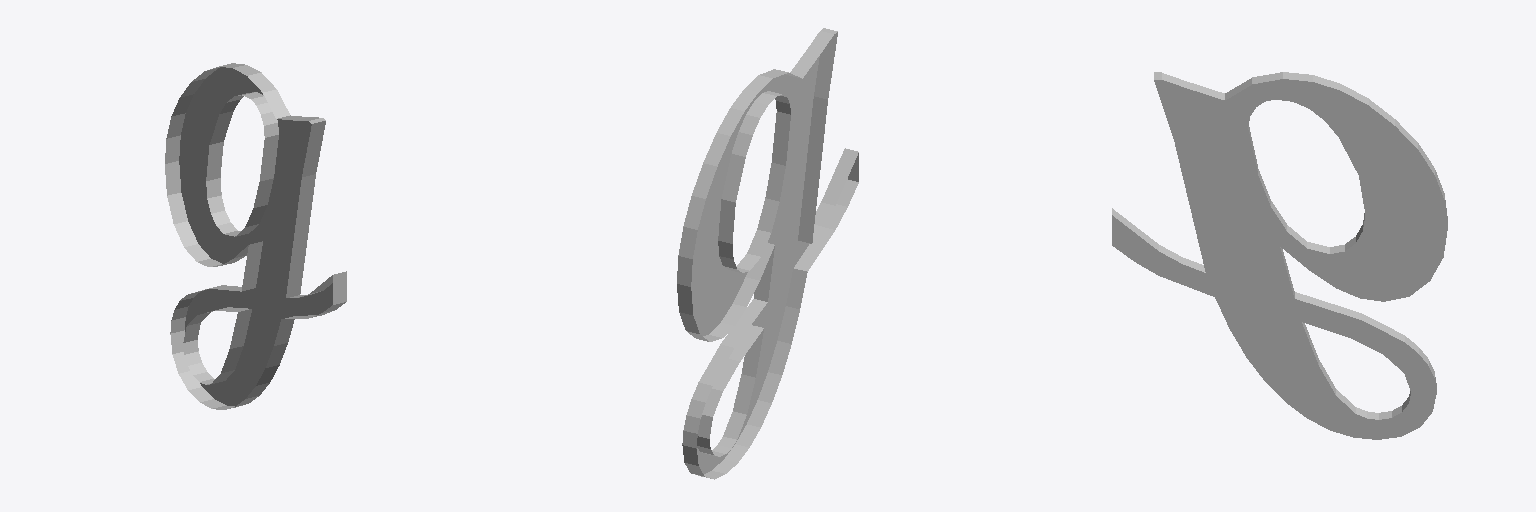
Rendered from original-45.obj.
3 renders of one model, left to right at view 1: azimuth 30°, elevation 25°; view 2: azimuth 150°, elevation 25°; view 3: azimuth 270°, elevation 25°, orthographic.
Visible parts, largest first — view 1: mesh12/mesh12-geometry/material_4/component_5#mesh12-geometry; view 2: mesh12/mesh12-geometry/material_4/component_5#mesh12-geometry; view 3: mesh12/mesh12-geometry/material_4/component_5#mesh12-geometry.
Part boxes in pixels (x1,y1,x2,y2): mesh12/mesh12-geometry/material_4/component_5#mesh12-geometry: (165, 63, 346, 409); mesh12/mesh12-geometry/material_4/component_5#mesh12-geometry: (677, 28, 858, 479); mesh12/mesh12-geometry/material_4/component_5#mesh12-geometry: (1112, 72, 1447, 439).
Size of the model in its own units: 0.0025 by 0.061 by 0.0515.